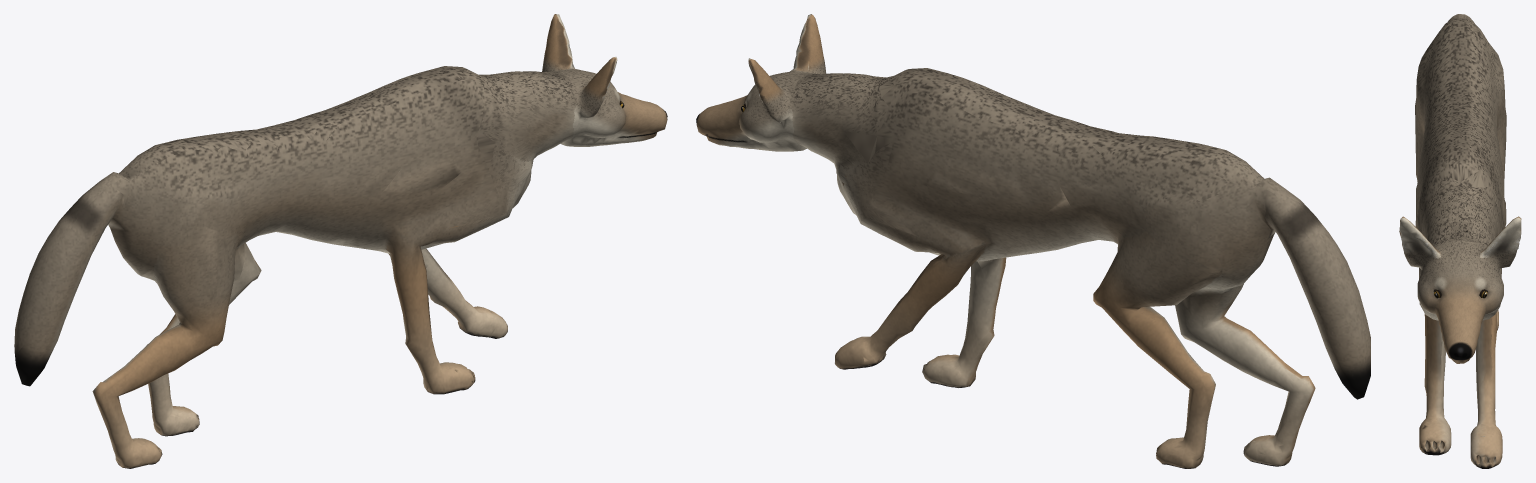
File: wolf_stalk.glb
3 renders of one model, left to right at view 1: azimuth 30°, elevation 25°; view 2: azimuth 150°, elevation 25°; view 3: azimuth 270°, elevation 25°, orthographic. The views are drawn at different scales.
Visible parts, largest first — view 1: wolf_stalk_mesh; view 2: wolf_stalk_mesh; view 3: wolf_stalk_mesh.
Part boxes in pixels (x1,y1,x2,y2): wolf_stalk_mesh: (14, 14, 667, 468); wolf_stalk_mesh: (696, 14, 1370, 468); wolf_stalk_mesh: (1399, 14, 1521, 468).
Bounding box in the file's own units: 1.23 × 0.5579 × 0.204.
1 material, 1 textured.
